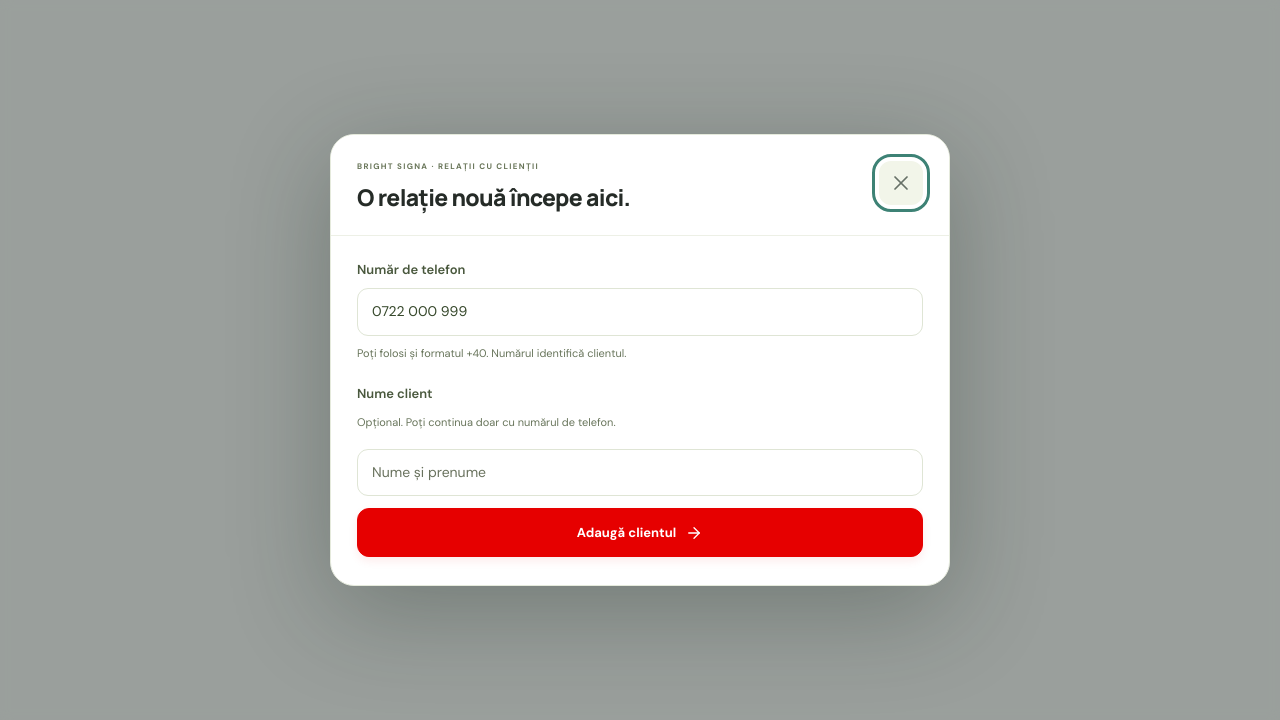
Test: retail workflows › shows server validation next to the field
The width and height of the screenshot is (1280, 720).
Type "Client Test" into the field labelled "Nume client" at [640, 473], box top-left (357, 449), bottom-right (923, 496)
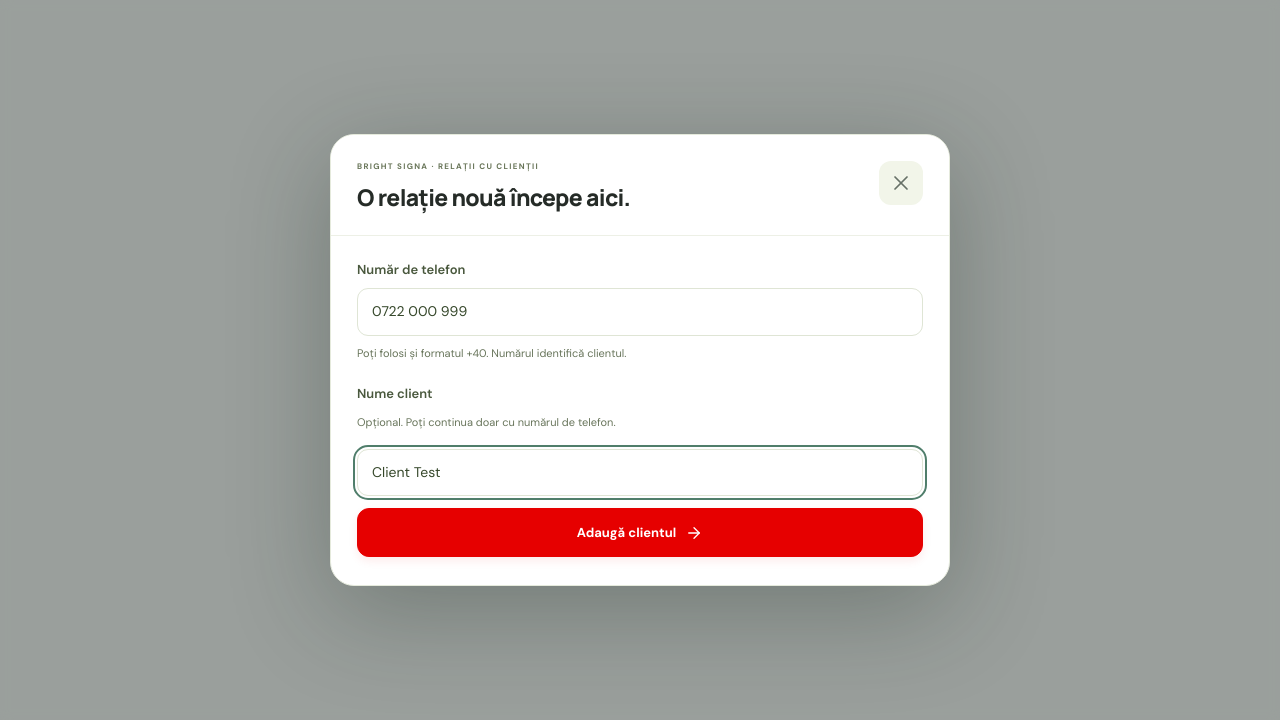
Click the button "Adaugă clientul" at [640, 533], box top-left (357, 508), bottom-right (923, 557)
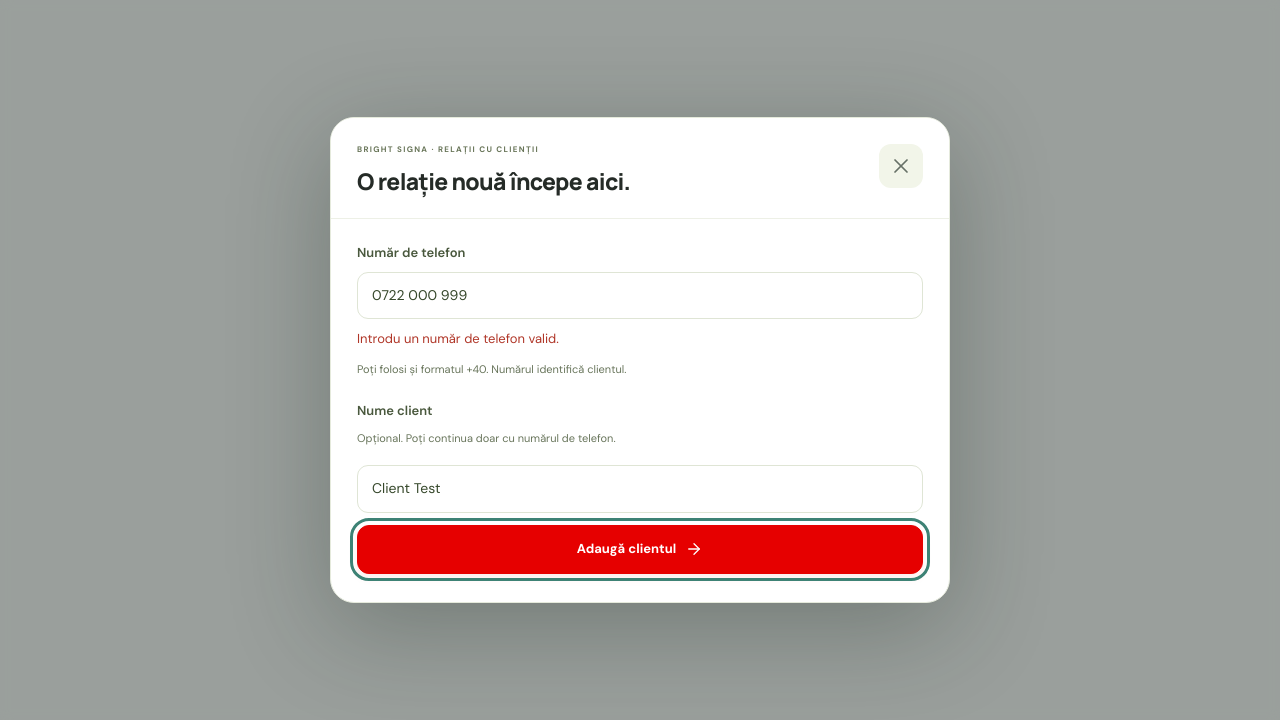
Now the text "Introdu un număr de telefon valid." is shown, box top-left (357, 330), bottom-right (559, 347)
